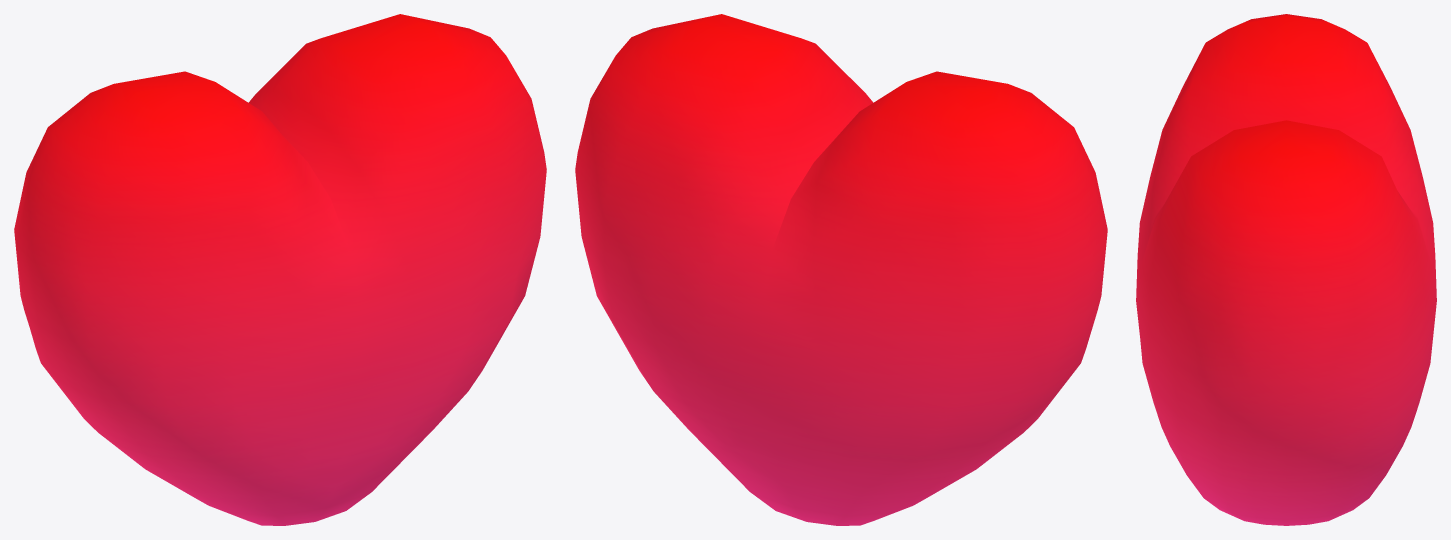
Rendered from Gem_02.glb.
The picture shows the model from 3 angles, left to right: view 1: azimuth 30°, elevation 25°; view 2: azimuth 150°, elevation 25°; view 3: azimuth 270°, elevation 25°; orthographic projection. The views are drawn at different scales.
Parts seen in each view (by area): view 1: Gem_02; view 2: Gem_02; view 3: Gem_02.
Boxes of the visible parts, left/top/right/bottom form: Gem_02: left=14, top=14, right=546, bottom=525; Gem_02: left=575, top=14, right=1107, bottom=525; Gem_02: left=1136, top=14, right=1436, bottom=525.
Size of the model in its own units: 1.21 by 1.06 by 0.6653.
Materials: 1 (1 with a texture image).
